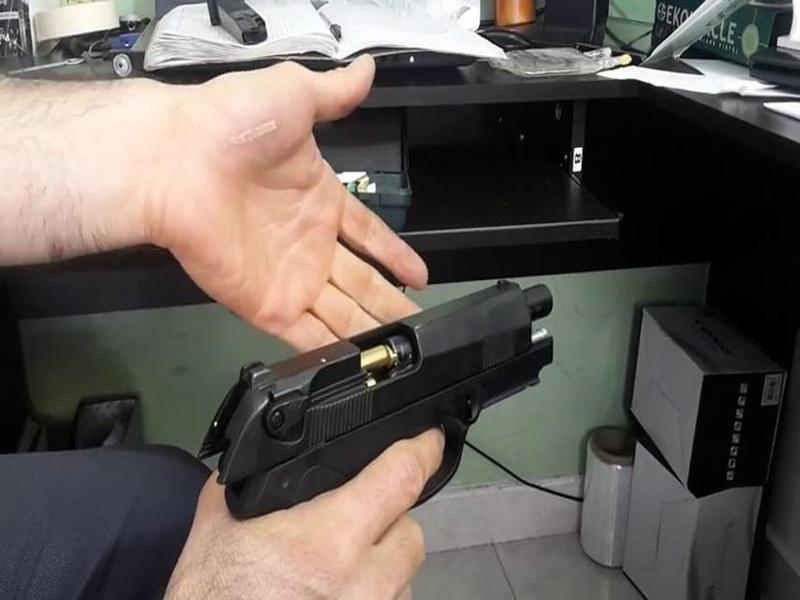Pistola: (187, 279, 567, 504)
